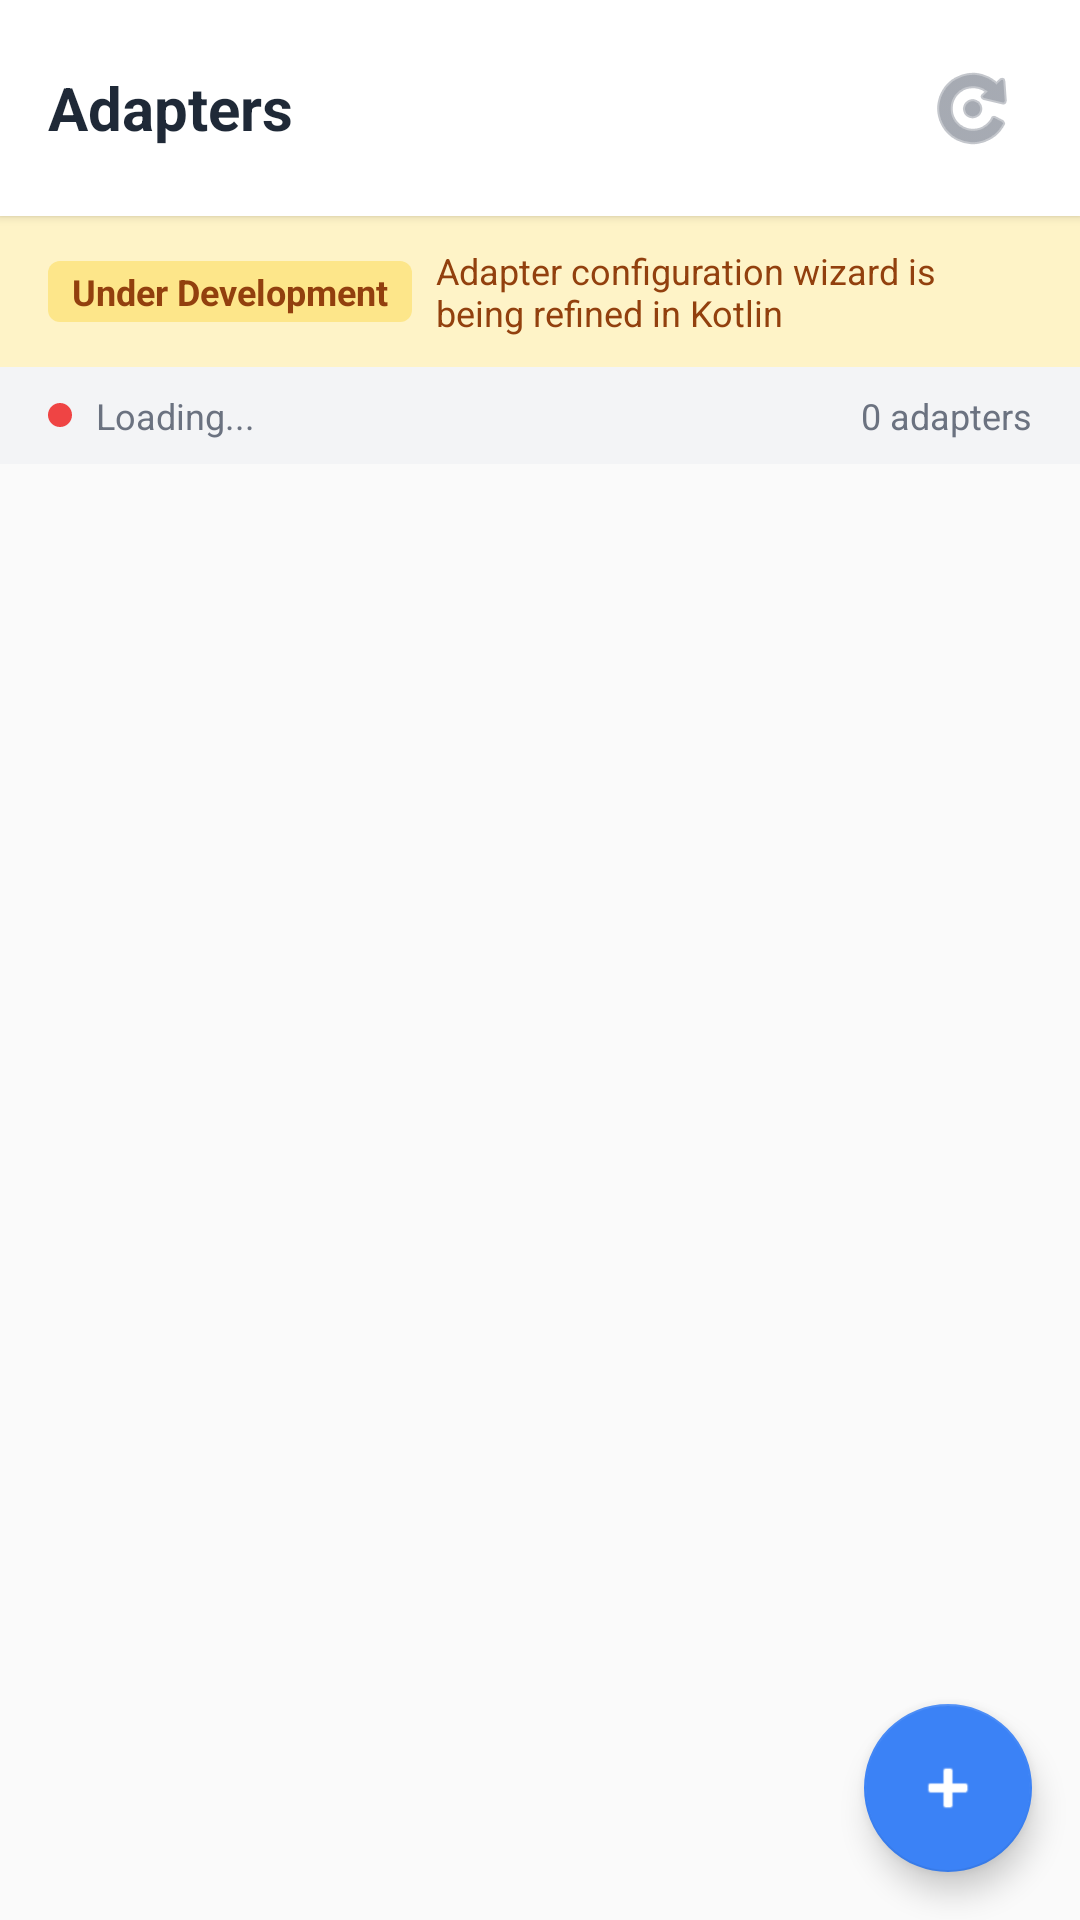

Screen size 1080px×1920px. Icon name, then its center in pixels as point (x, y):
Add Adapter: point (948, 1788)
Refresh: point (972, 108)
